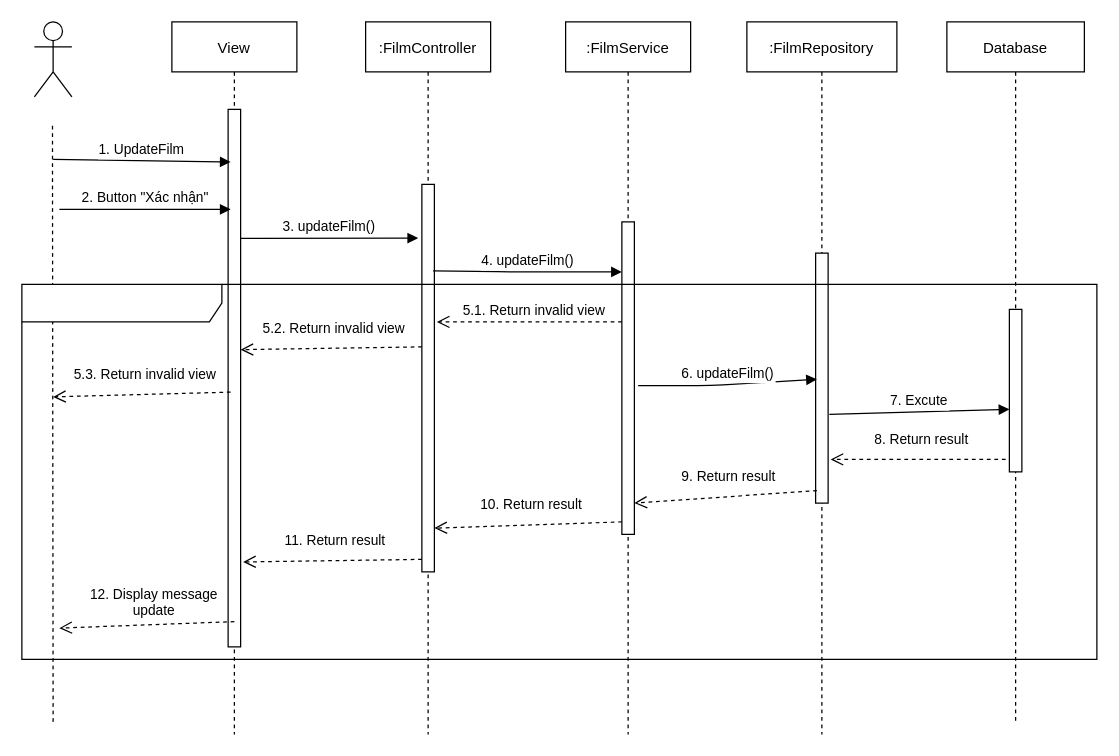
Some shapes in this 1119 by 756 pixel diagram are drawn without their labels. Each missing label, with the centre of its shape:
Admin: the point at 52,59
alt update film: the point at 559,471
